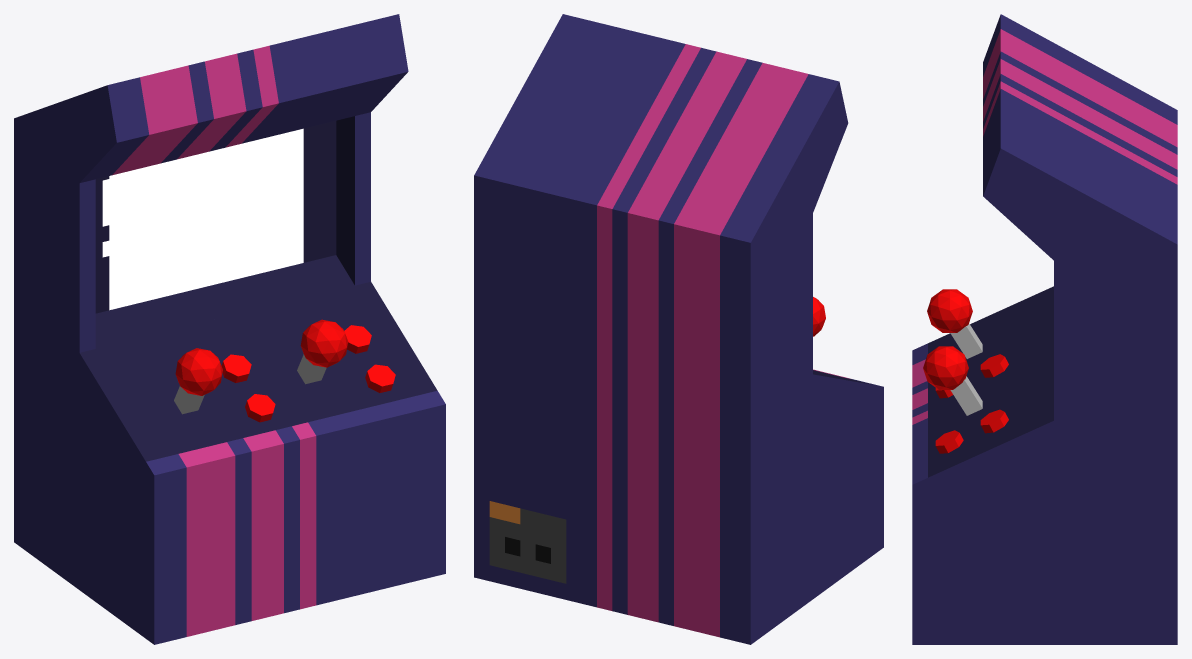
Rendered from borne.glb.
The picture shows the model from 3 angles, left to right: view 1: azimuth 30°, elevation 25°; view 2: azimuth 150°, elevation 25°; view 3: azimuth 270°, elevation 25°; orthographic projection. The views are drawn at different scales.
Visible parts, largest first — view 1: Cube; view 2: Cube; view 3: Cube.
Boxes of the visible parts, bbox=[...] form: Cube: bbox=[14, 14, 445, 644]; Cube: bbox=[474, 14, 883, 644]; Cube: bbox=[912, 14, 1177, 644].
Size of the model in its own units: 1.8 by 3.1 by 1.5.
1 material, 1 textured.
